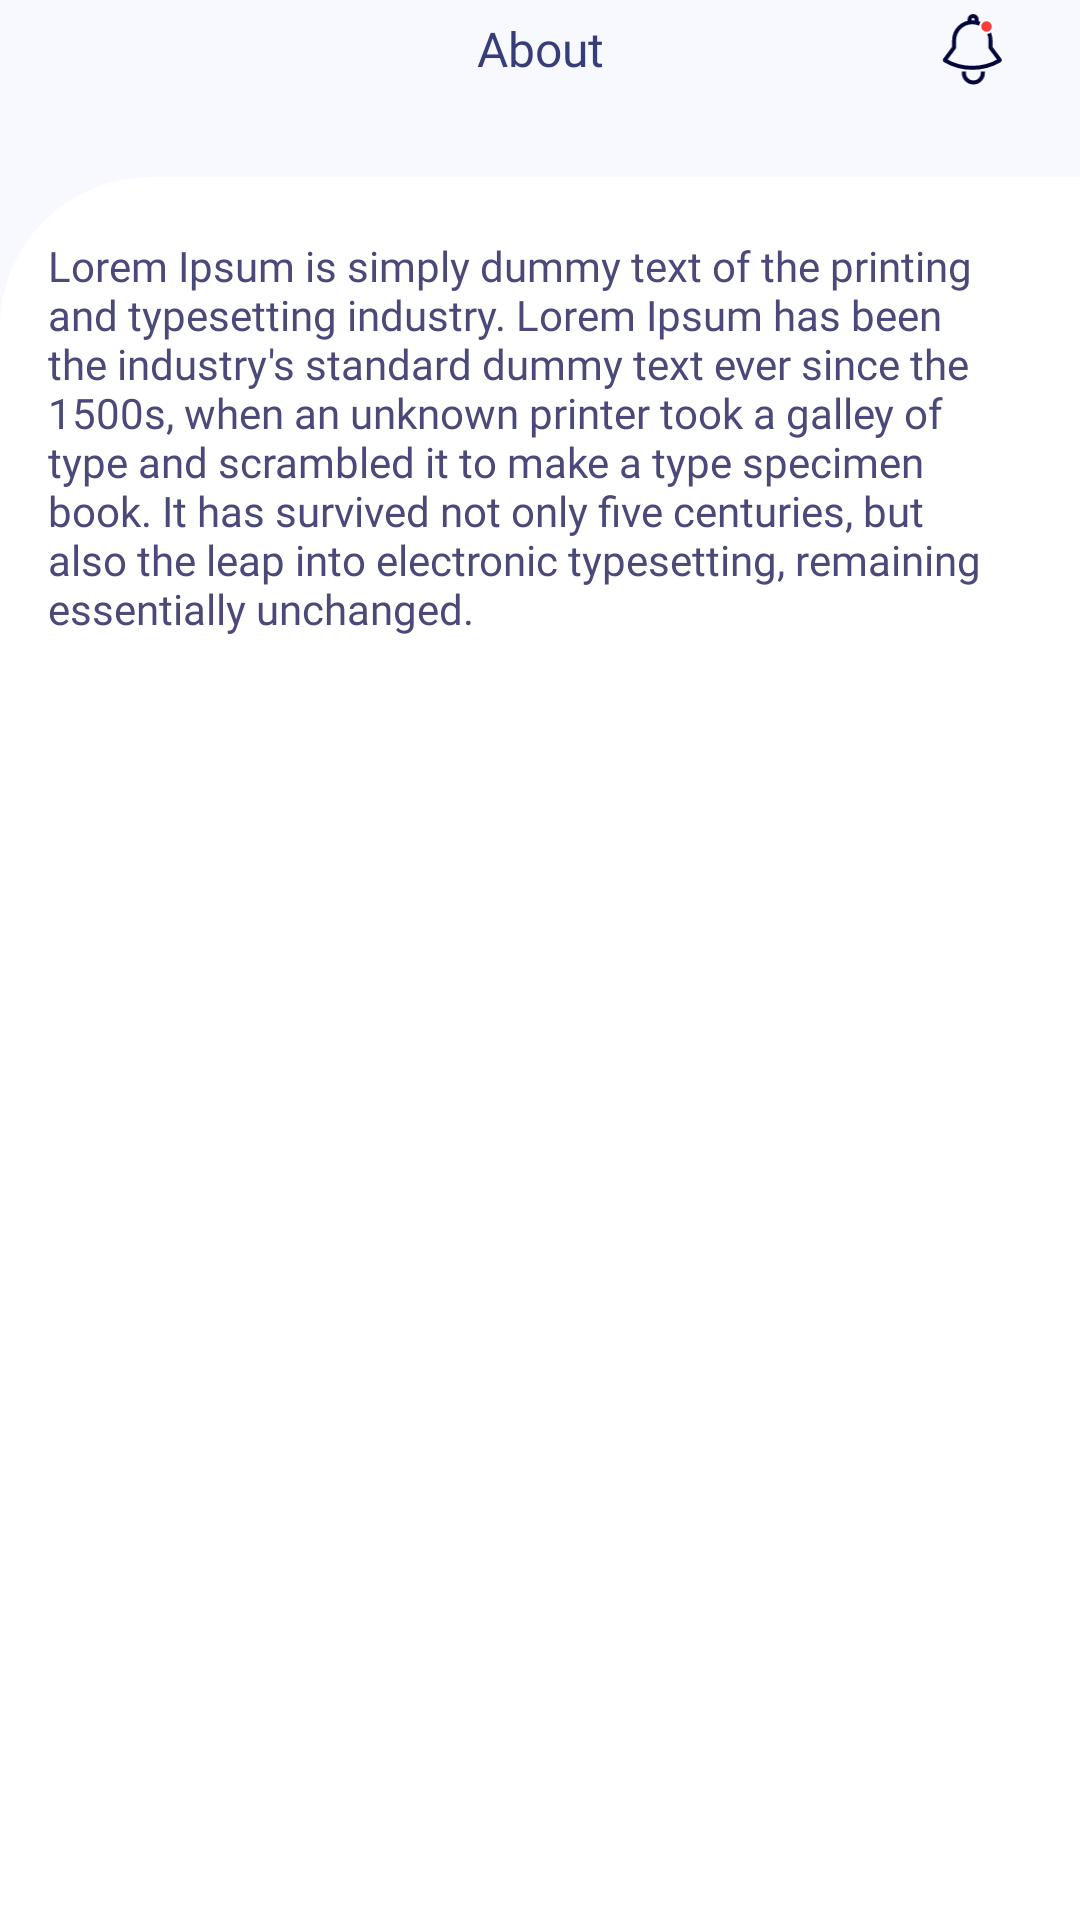

Where icons sit on this 1080x1920 app screen, as bbox=[x1, y1, x2, y2]:
bell: bbox=[942, 14, 1002, 85]
